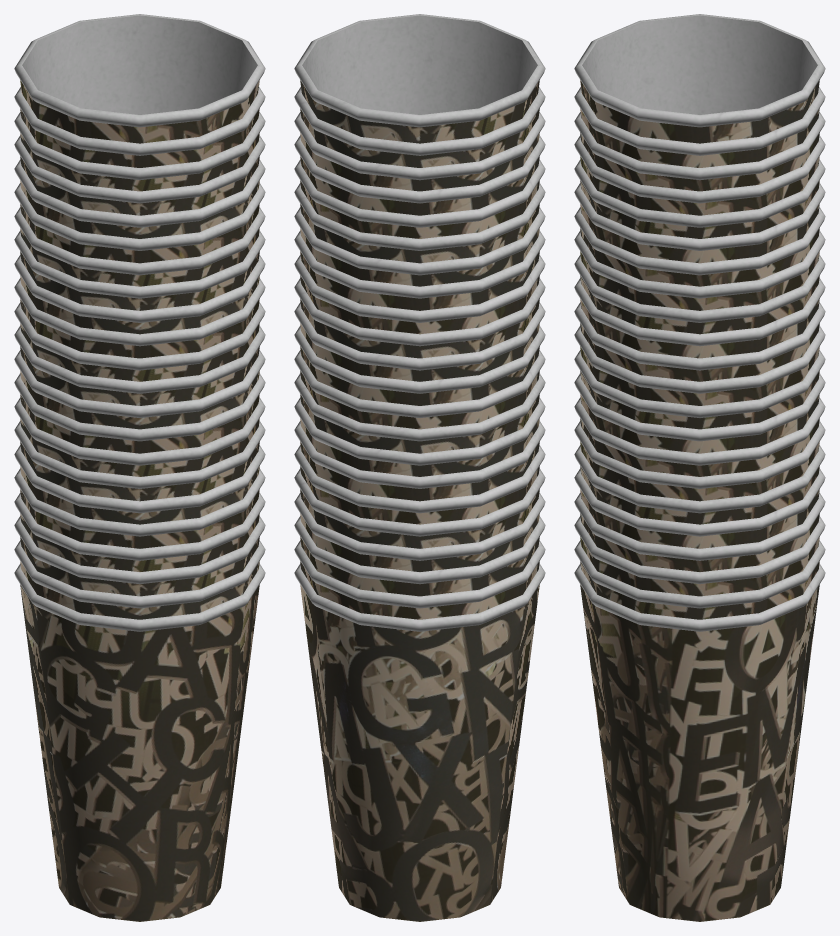
Rendered from FBX_PaperCups.fbx.
3 views of the same model, side by side, from view 1: azimuth 30°, elevation 25°; view 2: azimuth 150°, elevation 25°; view 3: azimuth 270°, elevation 25° (orthographic).
Visible parts, largest first — view 1: SM_PaperCups; view 2: SM_PaperCups; view 3: SM_PaperCups.
Part boxes in pixels (x1,y1,x2,y2): SM_PaperCups: [14, 14, 265, 921]; SM_PaperCups: [294, 14, 545, 921]; SM_PaperCups: [574, 14, 825, 921].
Size of the model in its own units: 0.0931 by 0.3361 by 0.0931.
